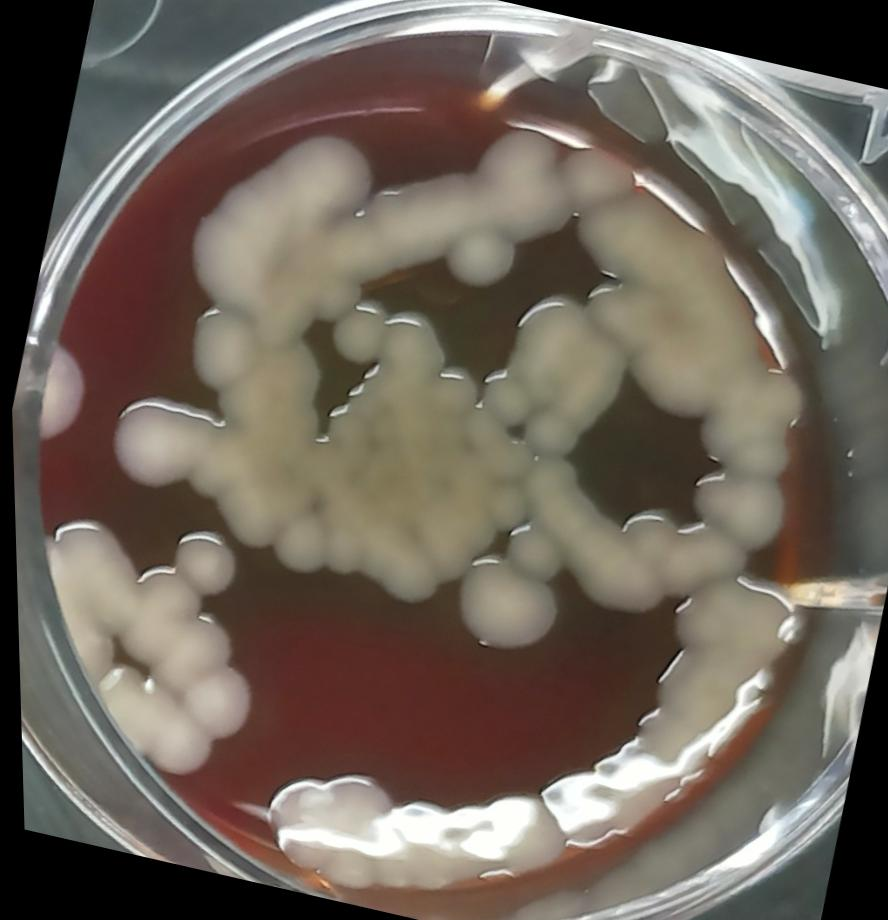ahydrophila: (521, 538, 820, 891), (12, 501, 289, 802), (484, 436, 756, 643), (194, 421, 464, 621), (174, 96, 398, 332), (238, 751, 548, 920), (475, 280, 639, 472), (195, 309, 338, 467), (440, 549, 576, 675), (93, 381, 221, 503), (671, 452, 797, 556), (169, 296, 270, 405), (22, 336, 108, 455), (157, 516, 250, 610), (548, 142, 641, 232), (434, 217, 528, 302), (491, 511, 580, 596), (319, 291, 393, 373), (422, 356, 487, 422)
